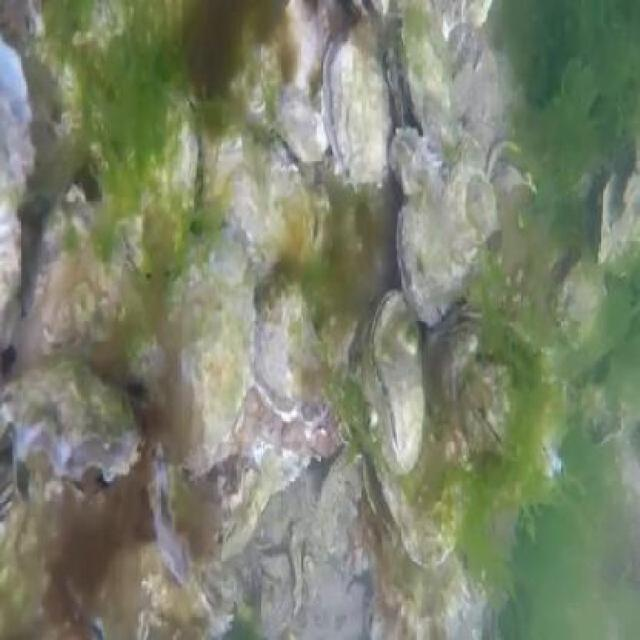Oyster-Closed: (395, 158, 499, 325), (322, 33, 393, 190), (368, 289, 427, 473), (148, 439, 191, 583), (388, 126, 441, 194)
Oyster-Indeterminate: (171, 230, 255, 464), (368, 529, 491, 640), (558, 253, 606, 346), (477, 359, 516, 430), (278, 101, 326, 156)
Oyster-Open: (359, 356, 470, 561), (2, 358, 143, 481), (0, 38, 33, 356), (253, 286, 321, 415), (597, 122, 640, 284)
